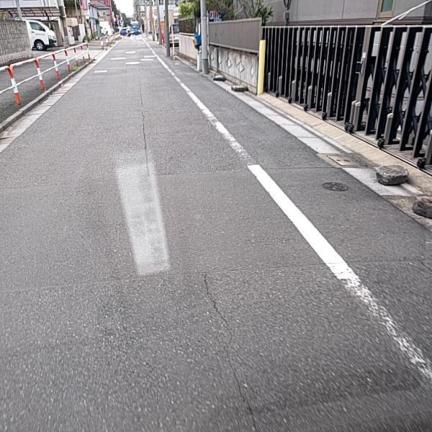Road: (0, 38, 431, 431)
